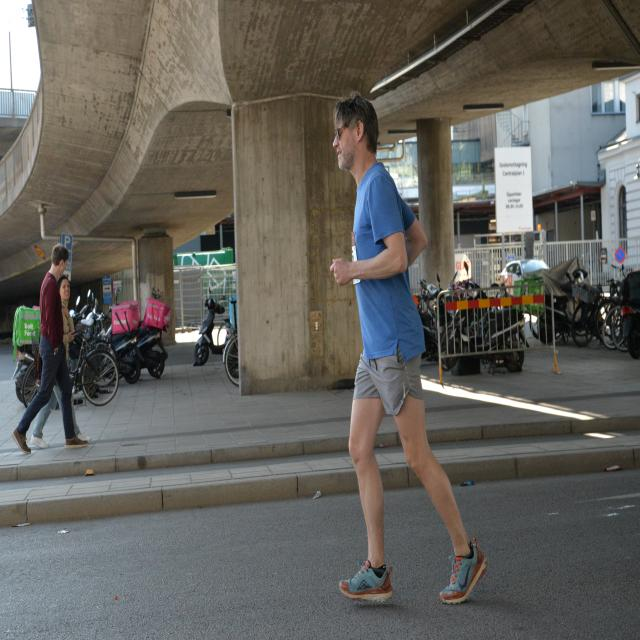runner-detect: (306, 84, 491, 618)
